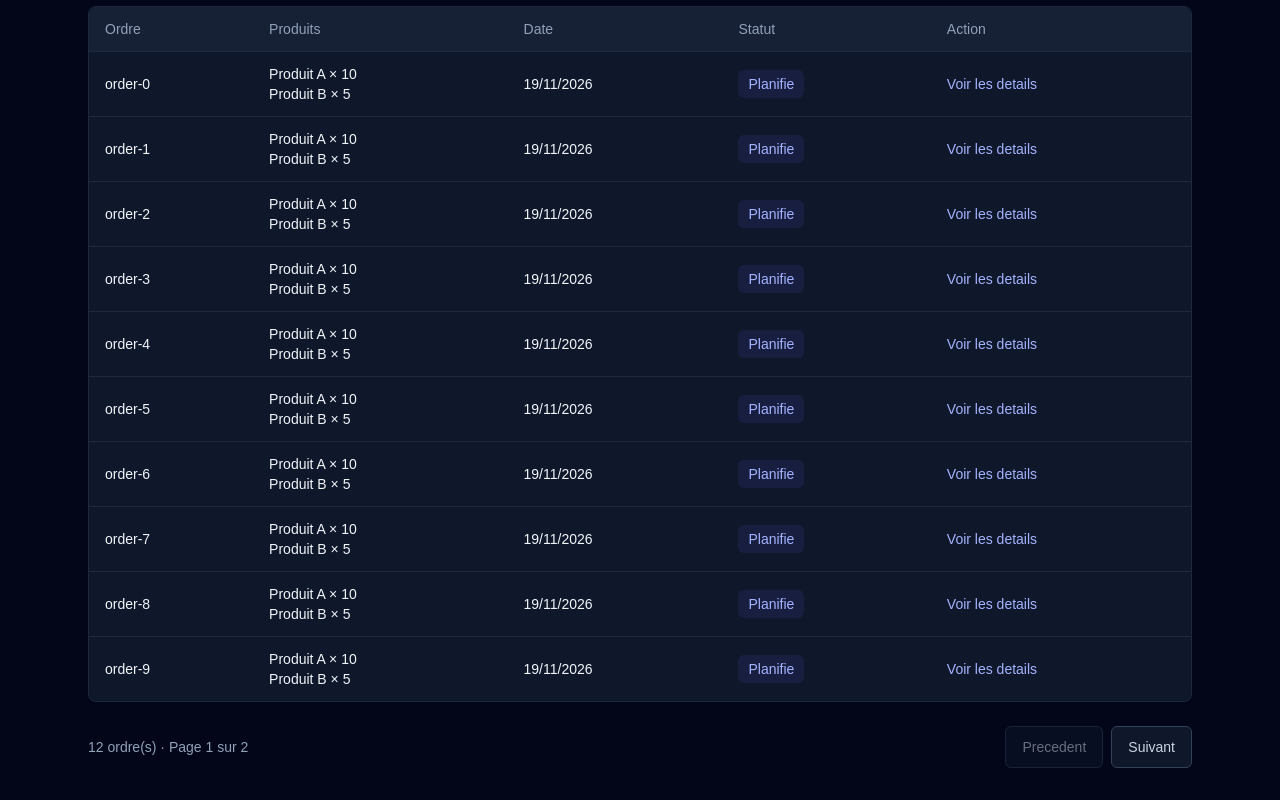
Scenario: status, product, date filters and pagination include completed history
This screenshot has width=1280, height=800.
(page scrolled)
Expected: the text "12 ordre(s) · Page 1 sur 2" is shown, [88,735,248,759]
Click the button "Suivant" at x=1152, y=747, box [1111,726,1192,768]
(page scrolled)
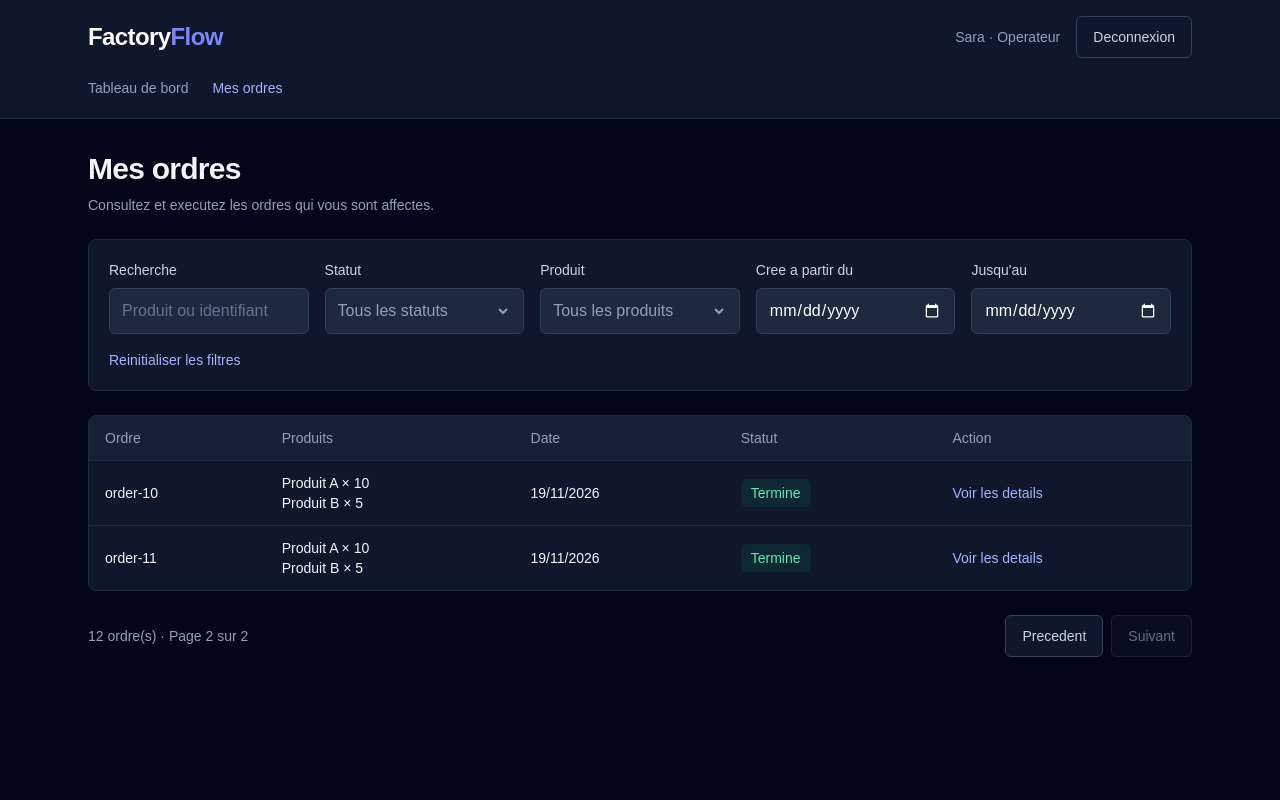
Expected: the text "12 ordre(s) · Page 2 sur 2" is shown, [88,624,248,648]
Select "Termine" in the dropdown labelled "Statut" at x=424, y=311, box [325,288,524,334]
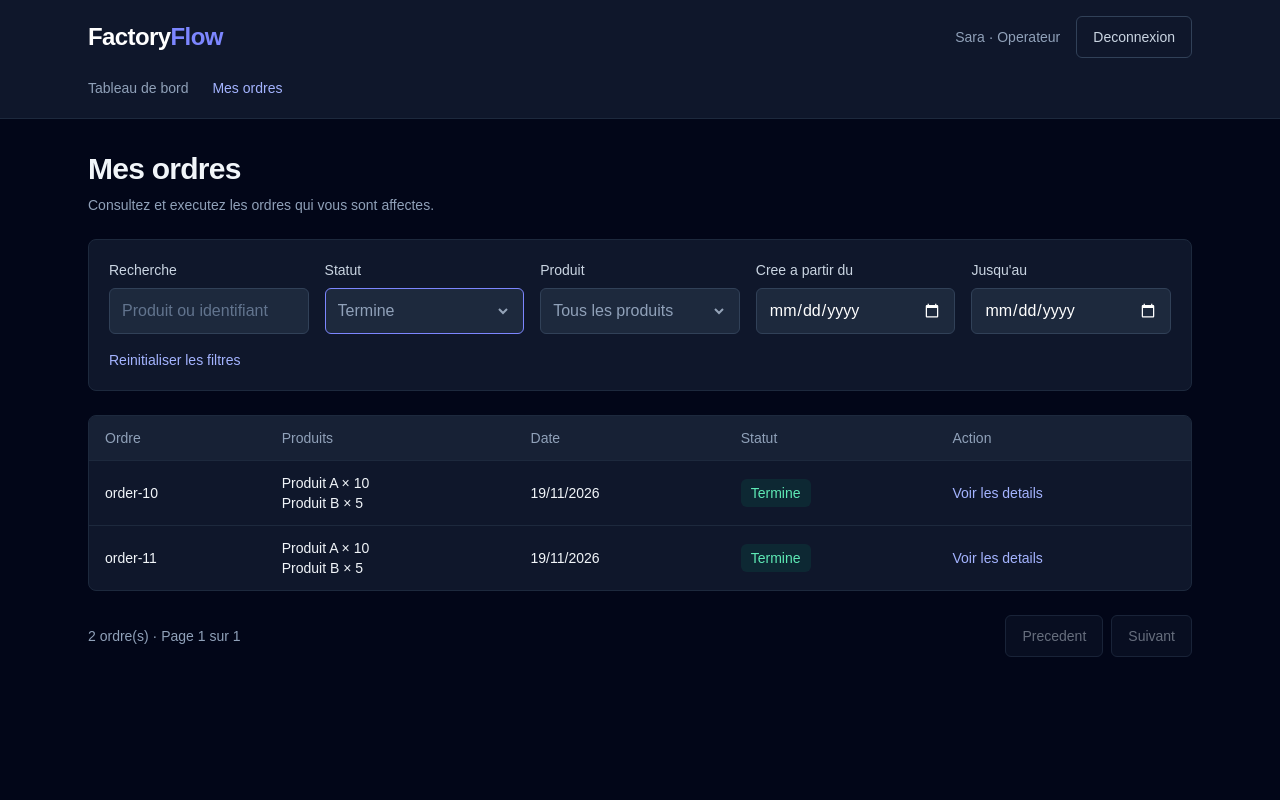
Expected: the text "2 ordre(s) · Page 1 sur 1" is shown, [88,624,241,648]
Select "Produit B" in the dropdown labelled "Produit" at x=640, y=311, box [540,288,740,334]
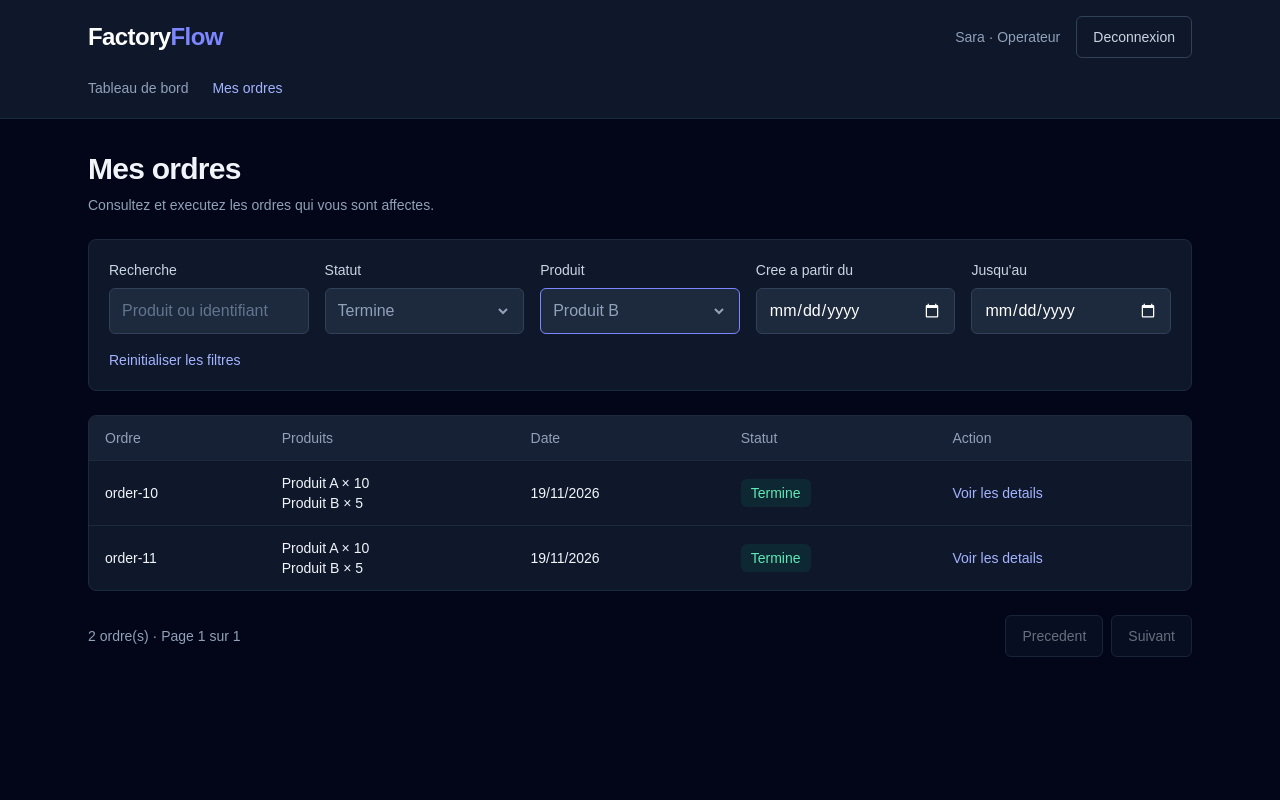
Type "2026-11-20" into the date field labelled "Cree a partir du" at x=856, y=311, box [756,288,955,334]
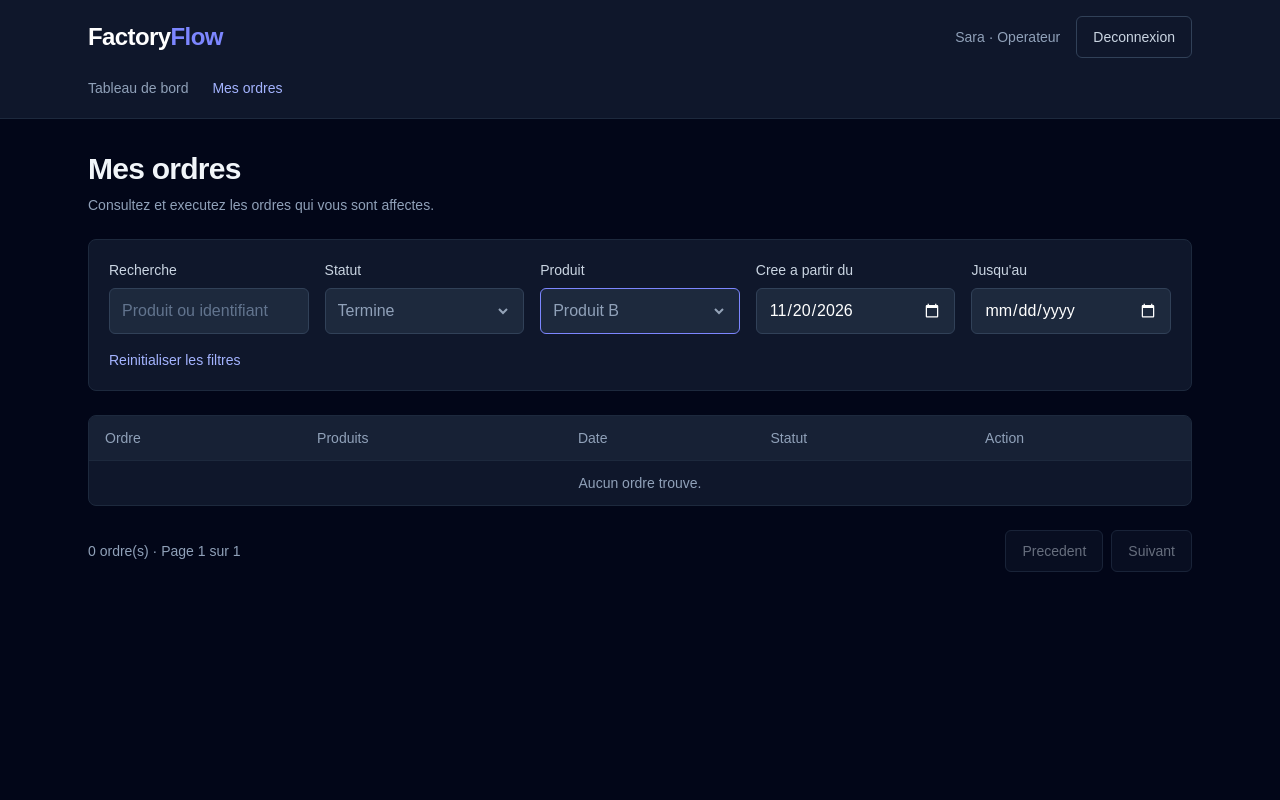
Expected: the text "Aucun ordre trouve." is shown, [89,460,1191,505]
